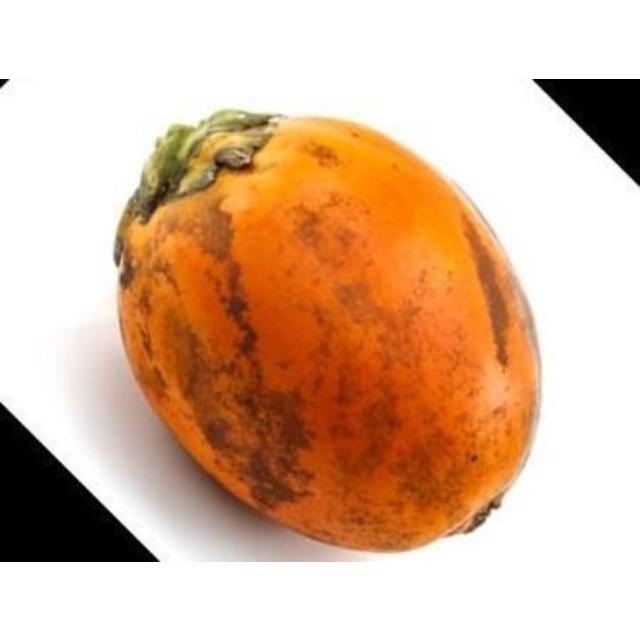good: (112, 108, 546, 553)
